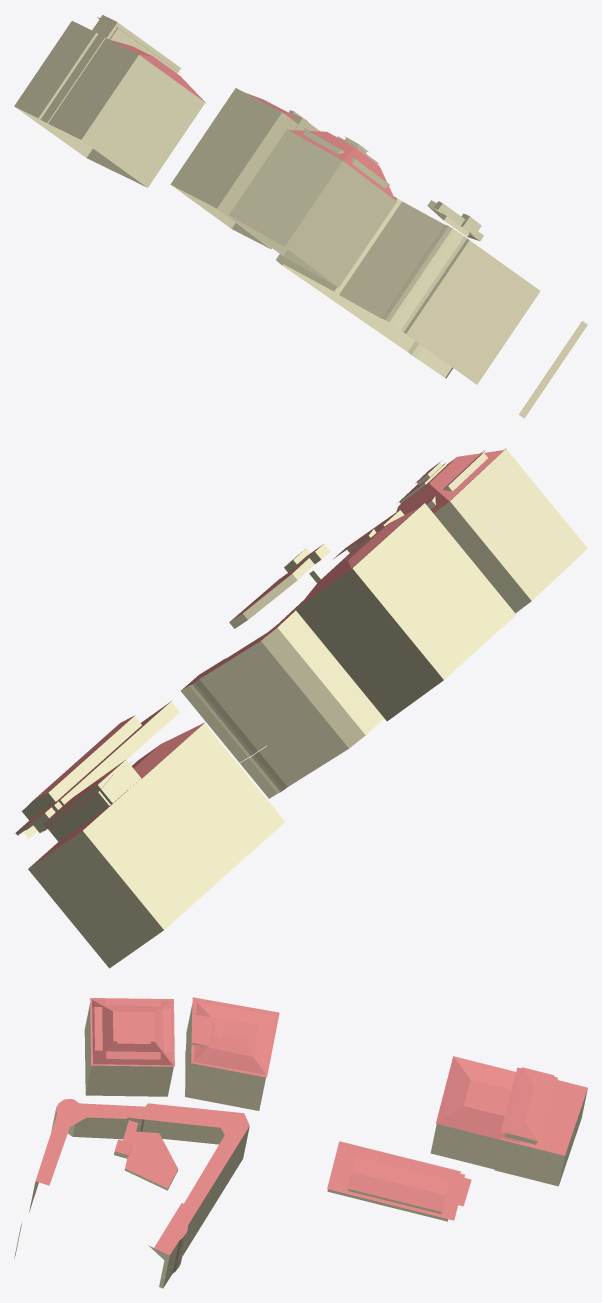
Rendered from tile_050.glb.
The picture shows the model from 3 angles, top to bottom: view 1: azimuth 30°, elevation 25°; view 2: azimuth 150°, elevation 25°; view 3: azimuth 270°, elevation 25°; orthographic projection. The views are drawn at different scales.
Visible parts, largest first — view 1: Batched_Building_ID_17ADB97B-204C-427B-BF3B-61A40F9B0A60; view 2: Batched_Building_ID_17ADB97B-204C-427B-BF3B-61A40F9B0A60; view 3: Batched_Building_ID_17ADB97B-204C-427B-BF3B-61A40F9B0A60.
Boxes of the visible parts, x1,y1,x2,y2 form: Batched_Building_ID_17ADB97B-204C-427B-BF3B-61A40F9B0A60: (14, 15, 587, 418); Batched_Building_ID_17ADB97B-204C-427B-BF3B-61A40F9B0A60: (14, 448, 587, 968); Batched_Building_ID_17ADB97B-204C-427B-BF3B-61A40F9B0A60: (14, 997, 587, 1288).
Size of the model in its own units: 77.95 by 76.59 by 170.
